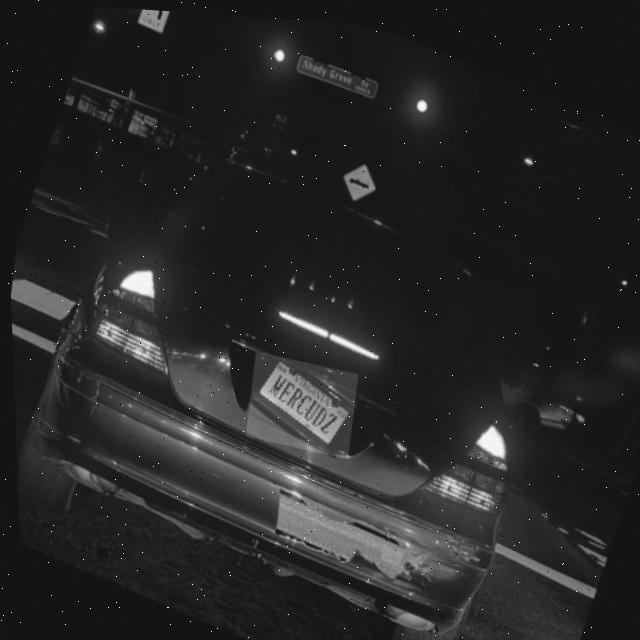LicensePlate: (248, 353, 351, 450)
